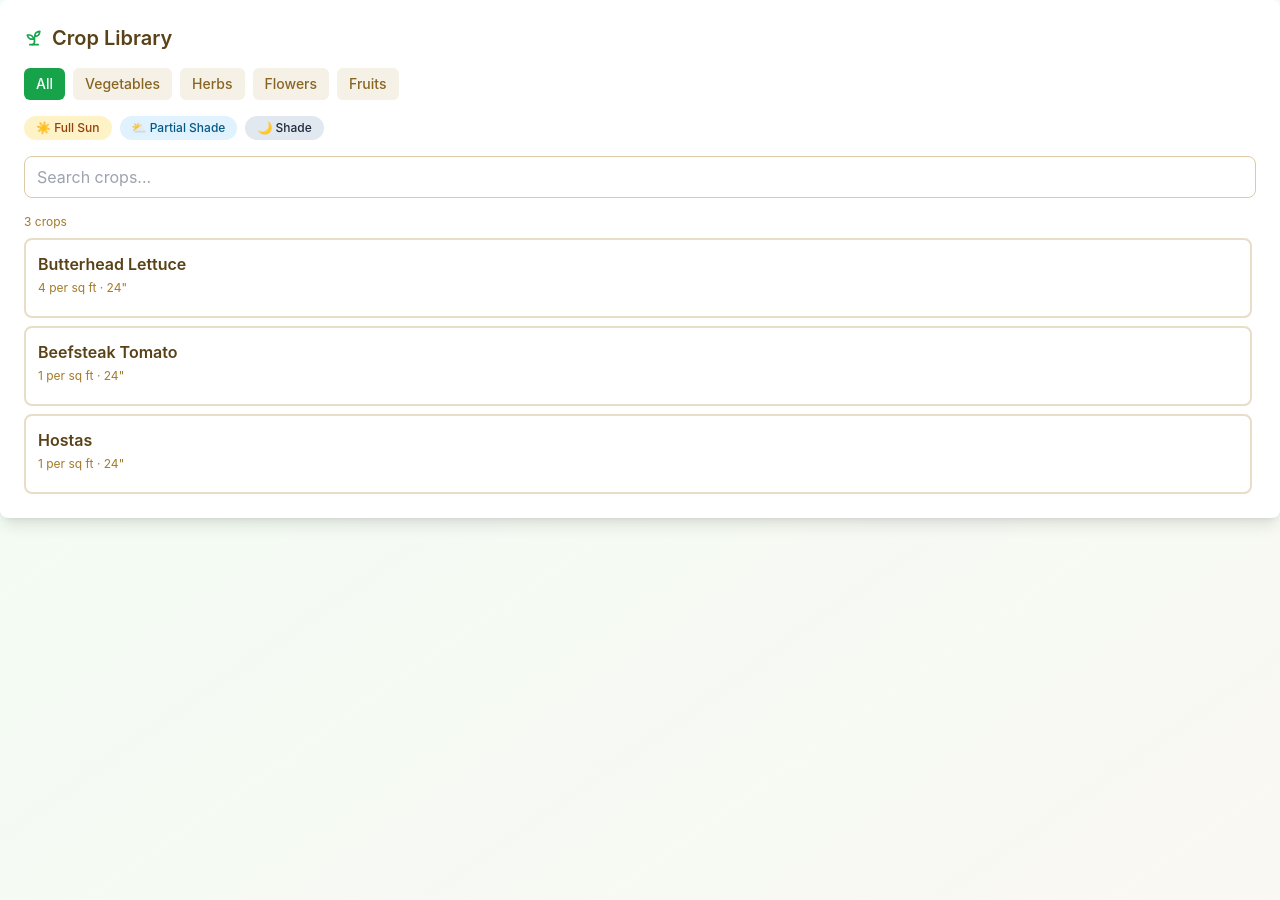
Scenario: CropLibrary › Sun Filter Pills (TODO-028) › shows only shade crops when "Shade" pill is clicked
This screenshot has width=1280, height=900.
Step 1. Click the button "🌙 Shade" → (285, 128), box x1=245 y1=116 x2=324 y2=140
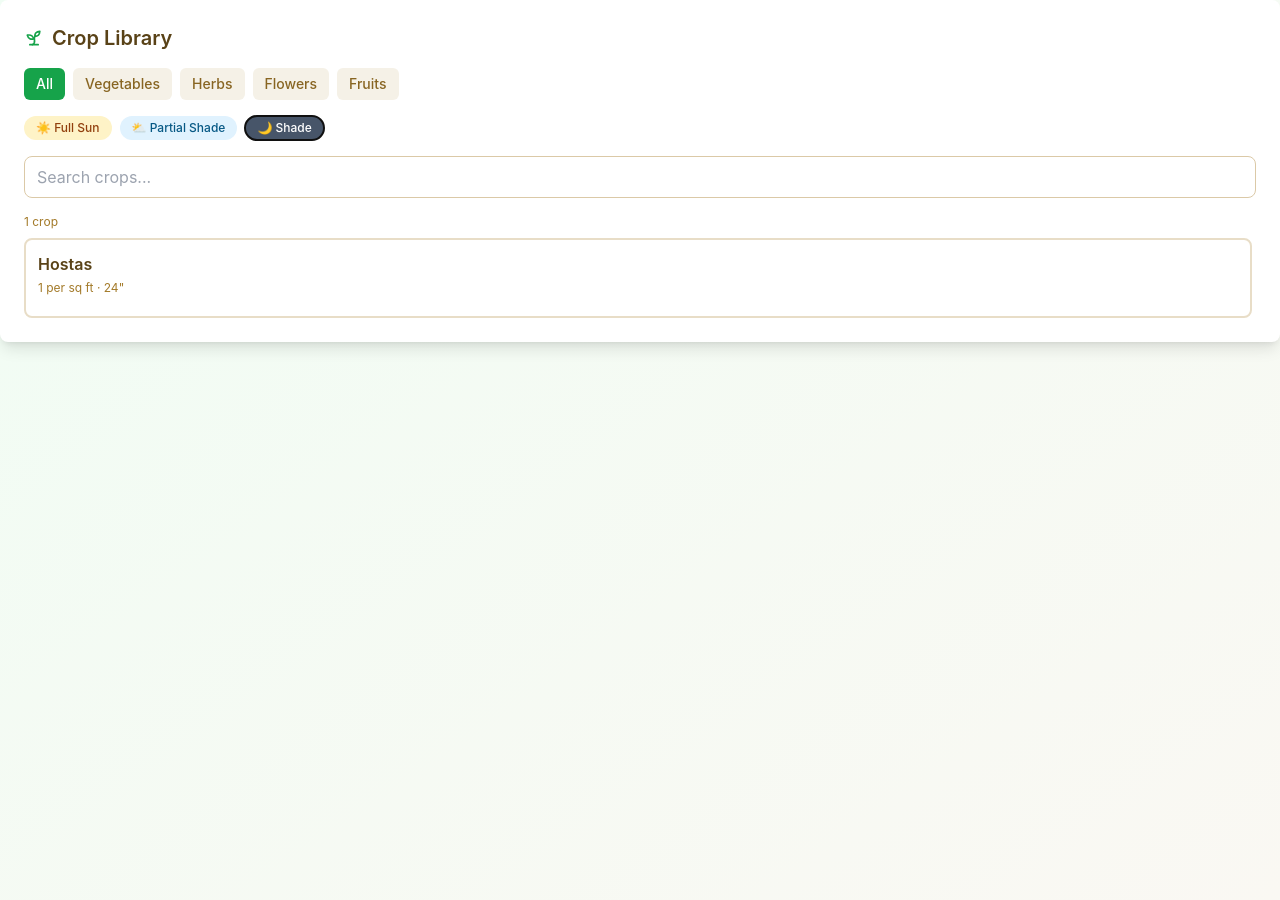
Expected: the text "Hostas" is shown, x1=38 y1=254 x2=92 y2=274
Expected: the button "Butterhead Lettuce" is gone
Expected: the button "Beefsteak Tomato" is gone
